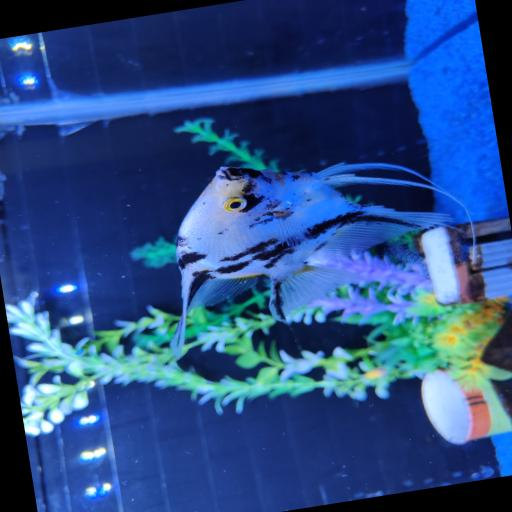Fish: (171, 163, 451, 357)
